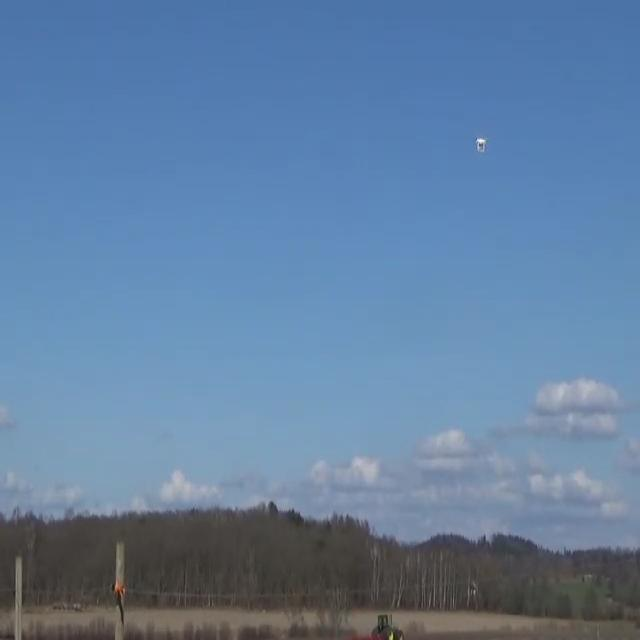Drone: (468, 125, 495, 164)
